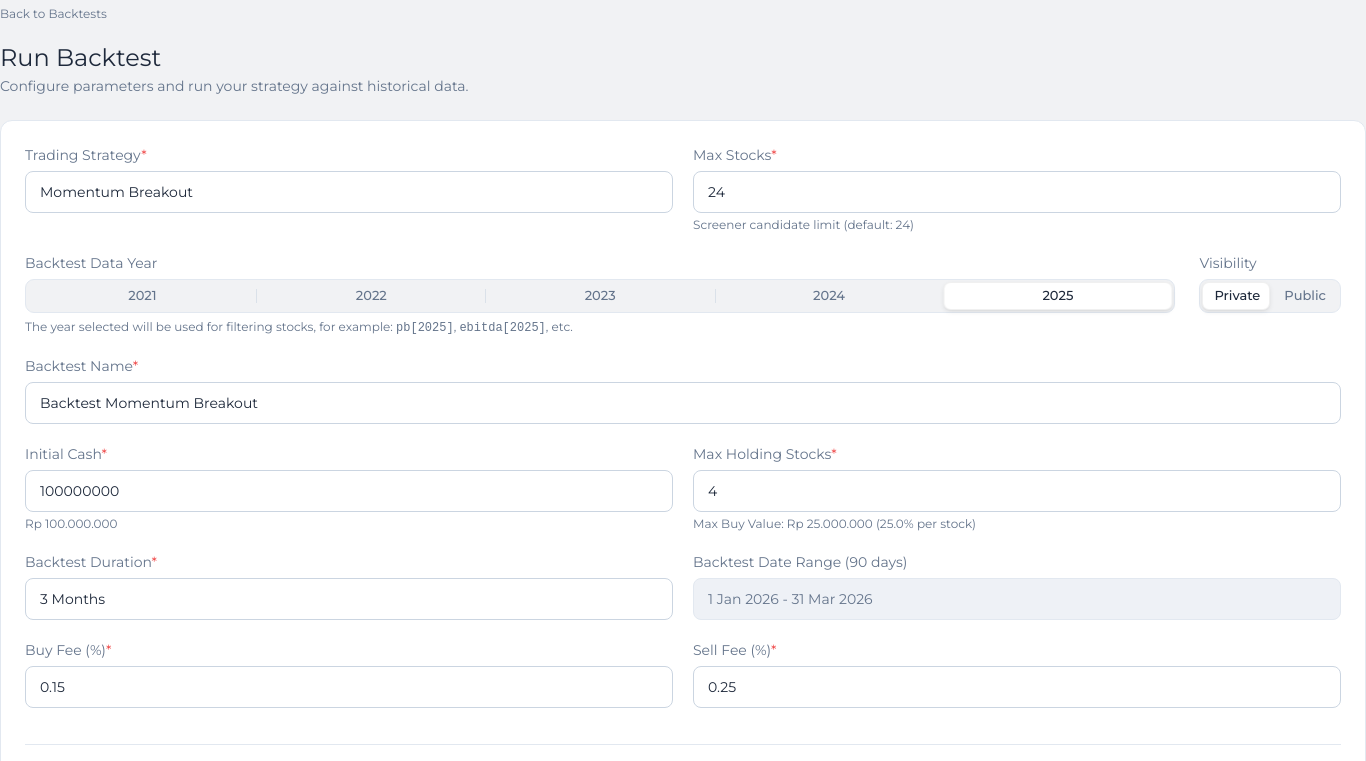
Test: NewBacktestPage › updates Backtest Date Range when duration or year changes
The width and height of the screenshot is (1366, 761).
Check: the text "Backtest Date Range (90 days)" is shown, box x1=693 y1=553 x2=907 y2=571
Click the dropdown named "Backtest Duration": (73, 599) x1=25 y1=578 x2=673 y2=620
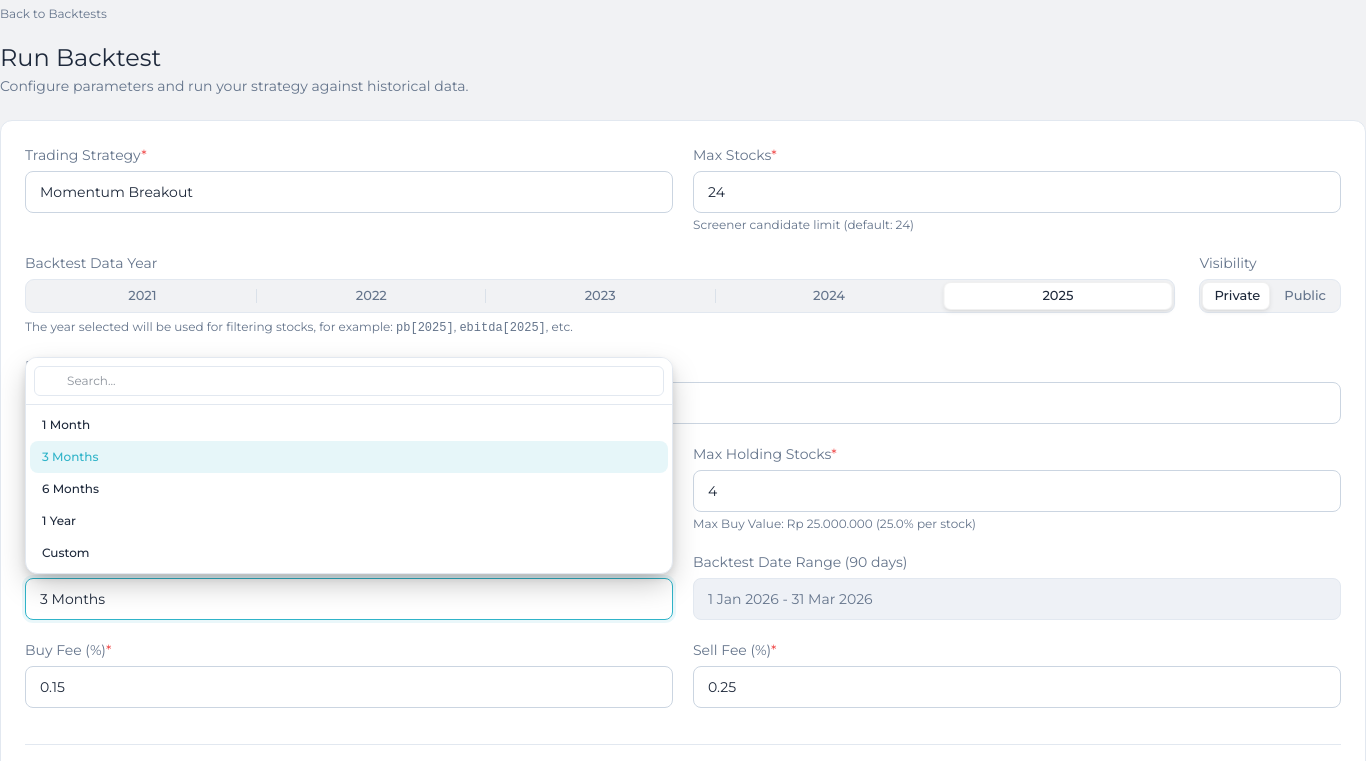
Click the option "1 Month": (66, 424) x1=30 y1=409 x2=668 y2=441
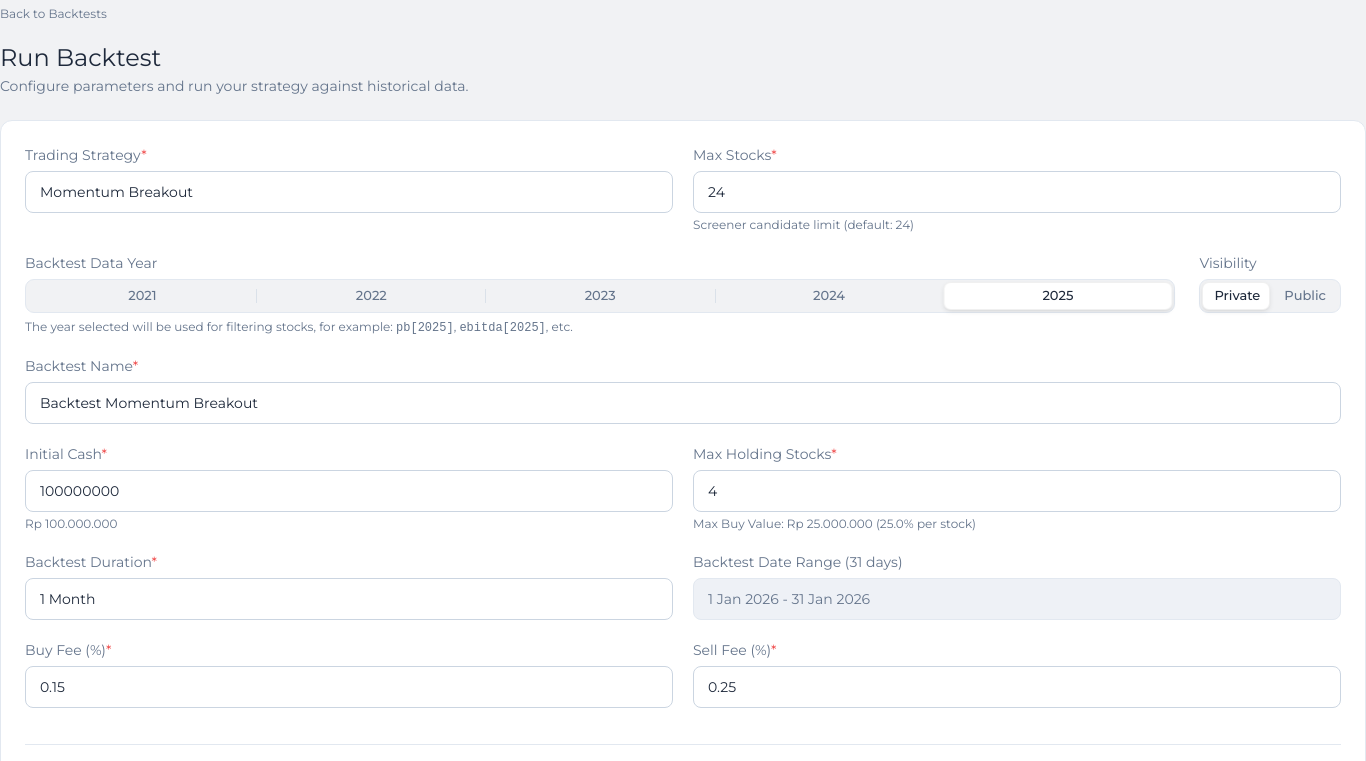
Check: the text "1 Jan 2026 - 31 Jan 2026" is shown, box x1=708 y1=589 x2=870 y2=609
Check: the text "Backtest Date Range (31 days)" is shown, box x1=693 y1=553 x2=902 y2=571
Note: Change year to 2023 (test year 2024, leap year)
Click the button "2023": (600, 296) x1=486 y1=282 x2=715 y2=310
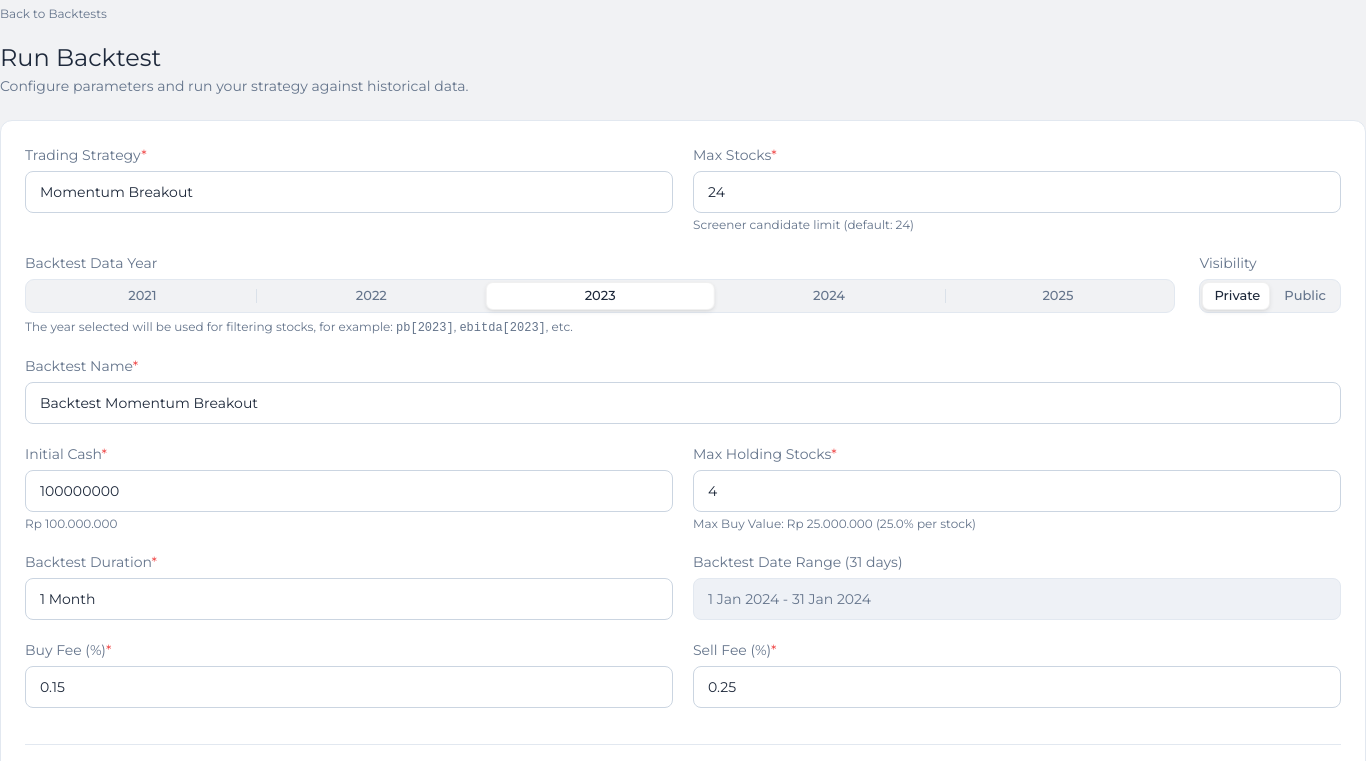
Check: the text "Backtest Date Range (31 days)" is shown, box x1=693 y1=553 x2=902 y2=571
Check: the text "1 Jan 2024 - 31 Jan 2024" is shown, box x1=708 y1=589 x2=871 y2=609
